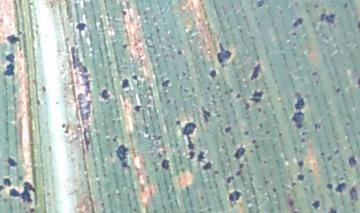tarspot: (69, 44, 97, 147), (7, 181, 37, 205), (181, 120, 198, 151), (215, 41, 233, 66), (288, 111, 308, 130), (115, 144, 130, 169), (247, 62, 264, 81), (291, 93, 307, 111), (232, 143, 247, 162), (226, 188, 243, 204), (250, 88, 265, 106), (158, 155, 173, 173), (5, 154, 19, 171), (200, 106, 212, 125), (321, 10, 336, 25), (2, 63, 16, 78), (4, 33, 20, 45), (4, 50, 18, 63), (309, 197, 322, 211), (130, 102, 144, 115), (205, 67, 219, 80), (336, 179, 348, 194), (290, 17, 306, 28), (159, 76, 171, 90), (100, 87, 111, 102), (347, 153, 357, 169), (294, 158, 307, 170), (323, 180, 335, 193), (233, 162, 245, 175), (222, 122, 233, 136), (75, 21, 87, 33), (294, 172, 307, 183), (174, 47, 187, 58), (38, 83, 50, 94), (197, 150, 207, 163), (119, 40, 129, 53), (233, 91, 244, 102), (121, 77, 129, 92), (184, 150, 196, 160), (285, 198, 297, 208), (119, 7, 129, 18), (327, 204, 339, 213), (254, 1, 266, 10), (334, 84, 343, 96), (201, 162, 214, 170), (225, 175, 235, 185), (34, 97, 44, 107), (242, 128, 251, 139), (269, 184, 278, 195), (129, 73, 141, 81), (332, 146, 340, 158), (173, 117, 182, 127), (312, 122, 322, 131), (255, 105, 264, 115), (27, 205, 37, 213), (257, 120, 264, 131), (318, 149, 326, 158), (59, 122, 67, 130), (250, 137, 256, 146), (1, 183, 5, 193)
